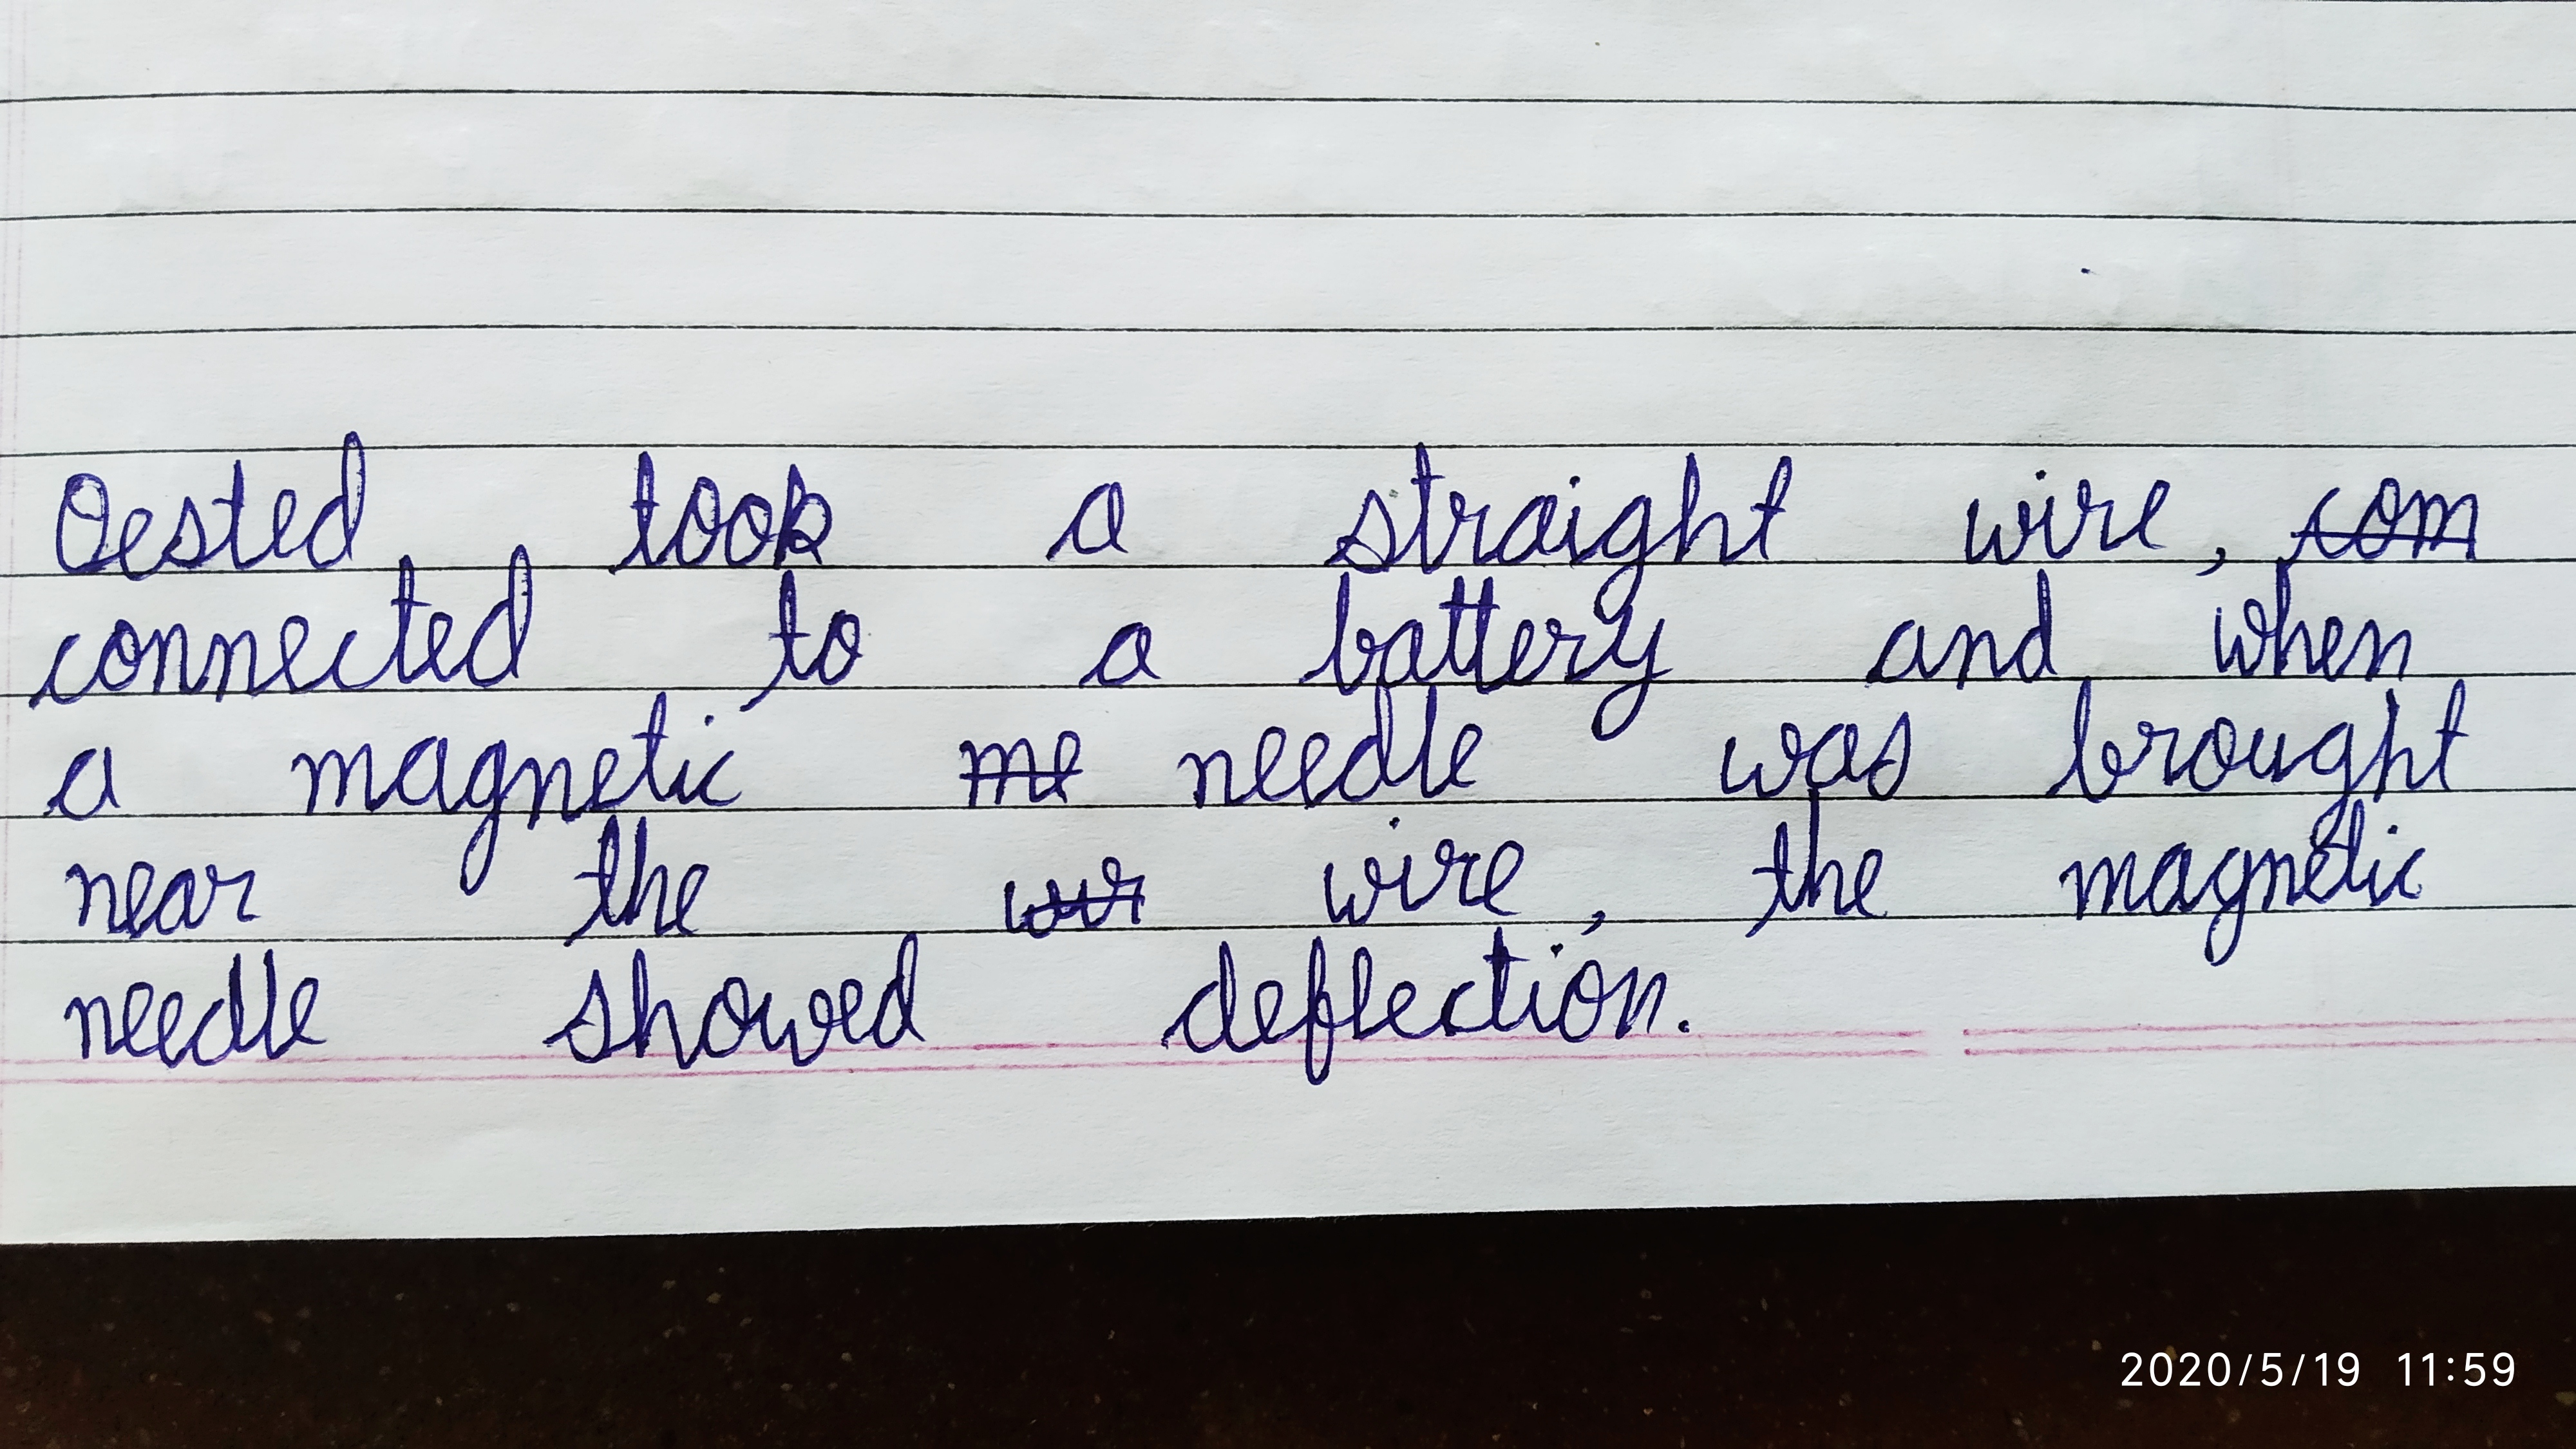O: (53, 471, 111, 573)
a: (55, 741, 124, 821), (1065, 478, 1131, 559), (387, 734, 451, 812), (1493, 494, 1560, 566), (1092, 619, 1155, 686), (1803, 722, 1865, 791), (2143, 840, 2197, 916), (1870, 617, 1930, 681), (1376, 617, 1428, 690), (154, 867, 200, 936)
b: (2066, 676, 2128, 807), (1329, 571, 1378, 695)
c: (41, 630, 96, 706), (320, 625, 377, 694), (694, 748, 743, 810), (1435, 978, 1484, 1037), (2390, 844, 2436, 902)
d: (462, 543, 536, 690), (301, 432, 368, 568), (1332, 688, 1399, 803), (184, 952, 249, 1067), (1180, 939, 1240, 1053), (869, 932, 927, 1047), (2008, 568, 2061, 681)
e: (264, 614, 326, 695), (1240, 724, 1293, 803), (111, 504, 165, 582), (573, 747, 632, 817), (1238, 977, 1295, 1047), (412, 610, 464, 686), (1292, 731, 1339, 809), (1479, 839, 1527, 916), (669, 860, 717, 938), (280, 975, 327, 1049), (2127, 478, 2173, 552), (152, 989, 193, 1070), (117, 860, 159, 938), (113, 980, 156, 1058), (1497, 617, 1545, 686), (258, 488, 303, 561), (1442, 722, 1488, 791), (1847, 847, 1891, 918), (1376, 978, 1428, 1039), (2312, 616, 2357, 681), (833, 977, 874, 1046), (2296, 849, 2339, 904)
f: (1297, 934, 1343, 1088)
g: (456, 736, 511, 897), (1589, 492, 1654, 626), (2203, 844, 2256, 968), (2305, 720, 2353, 849)
h: (628, 947, 683, 1060), (1675, 451, 1730, 563), (1798, 793, 1845, 915), (2268, 559, 2316, 676), (625, 816, 671, 936), (2373, 688, 2417, 794)
i: (1520, 941, 1564, 1035), (1385, 814, 1426, 913), (1557, 474, 1596, 564), (2364, 824, 2403, 906), (2031, 467, 2065, 559)
l: (1407, 685, 1444, 800), (249, 947, 287, 1060), (1343, 945, 1380, 1040)
m: (297, 741, 379, 816), (2066, 847, 2139, 913)
n: (205, 628, 264, 699), (522, 754, 573, 832), (1614, 964, 1667, 1039), (69, 862, 120, 936), (145, 623, 195, 695), (2358, 617, 2413, 681), (1946, 621, 1999, 685), (64, 994, 115, 1060), (1185, 747, 1237, 810), (2259, 847, 2298, 909)
o: (690, 973, 757, 1060), (667, 474, 724, 568), (1553, 955, 1608, 1046), (810, 609, 867, 686), (2183, 715, 2240, 793), (92, 617, 147, 694), (722, 490, 775, 568)
qqbslash: (2236, 1352, 2256, 1389), (2289, 1352, 2309, 1389)
qqcoma: (2196, 545, 2229, 579), (1580, 909, 1606, 939)
qqfive: (2261, 1352, 2284, 1387), (2463, 1352, 2486, 1387)
qqfstop: (1672, 1017, 1695, 1039)
qqnine: (2335, 1352, 2362, 1389), (2491, 1350, 2518, 1387)
qqone: (2396, 1352, 2415, 1389), (2314, 1352, 2332, 1389), (2419, 1352, 2436, 1389)
qqtwo: (2120, 1350, 2144, 1387), (2178, 1352, 2203, 1389)
qqzero: (2148, 1350, 2174, 1389), (2206, 1350, 2233, 1387)
r: (1421, 837, 1483, 908), (1438, 487, 1493, 564), (2066, 478, 2120, 554), (2128, 718, 2183, 789), (196, 862, 258, 924), (1536, 616, 1587, 683)
s: (1332, 488, 1399, 575), (563, 968, 619, 1065), (1859, 709, 1916, 801), (157, 494, 212, 570)
t: (373, 554, 428, 685), (1399, 441, 1445, 575), (763, 570, 812, 681), (211, 460, 258, 571), (580, 814, 626, 929), (621, 449, 665, 566), (2427, 678, 2472, 793), (1477, 925, 1523, 1035), (1748, 455, 1794, 561), (630, 692, 671, 803), (1465, 575, 1500, 695), (1433, 575, 1470, 678), (1757, 821, 1798, 913)
u: (2245, 725, 2291, 784)
w: (754, 985, 835, 1069), (1718, 720, 1805, 798), (1960, 495, 2035, 568), (2210, 596, 2270, 678), (1320, 855, 1385, 925)
y: (1591, 605, 1668, 743)
